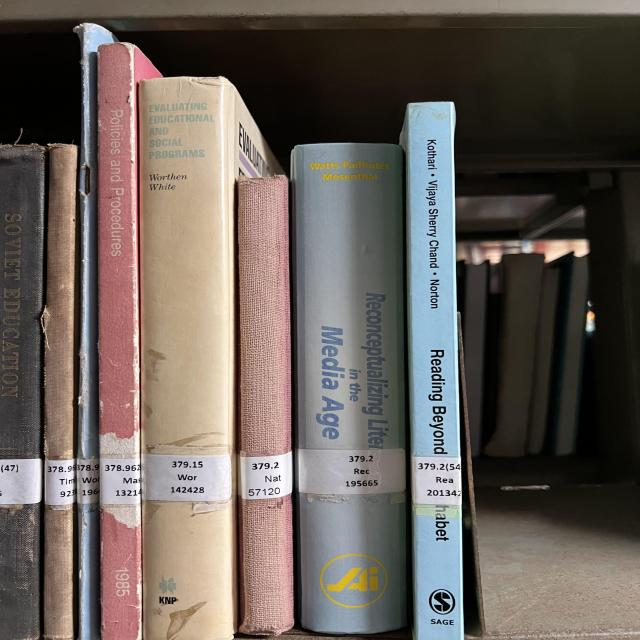Book: (138, 78, 282, 640), (292, 144, 408, 634), (98, 42, 160, 640), (400, 102, 463, 640), (238, 176, 293, 635), (77, 22, 117, 640), (42, 144, 78, 640)
Label: (297, 449, 405, 495), (142, 454, 232, 501), (240, 452, 292, 500), (412, 456, 462, 505), (100, 459, 140, 504), (45, 459, 75, 505), (77, 459, 100, 504)
